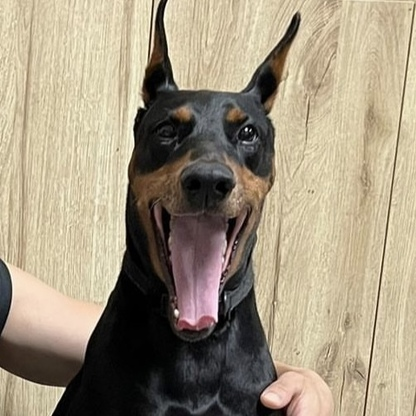doberman: (109, 4, 296, 416)
